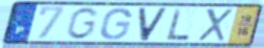7: (36, 5, 68, 41)
G: (64, 6, 101, 41), (98, 7, 134, 41)
L: (166, 7, 191, 42)
V: (137, 7, 170, 42)
X: (197, 8, 234, 43)
